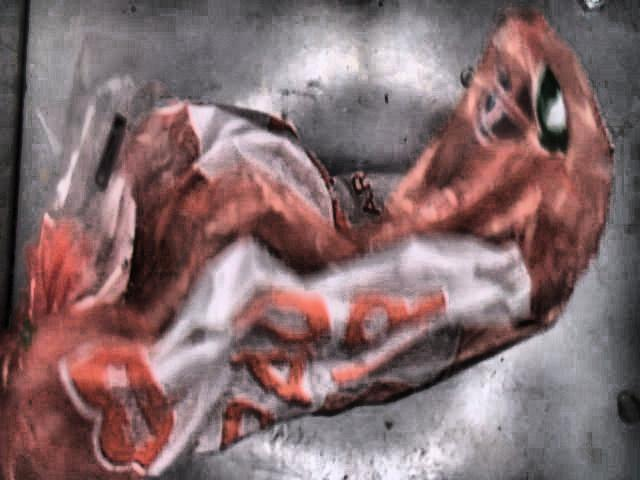Plastic: (0, 13, 613, 480)
